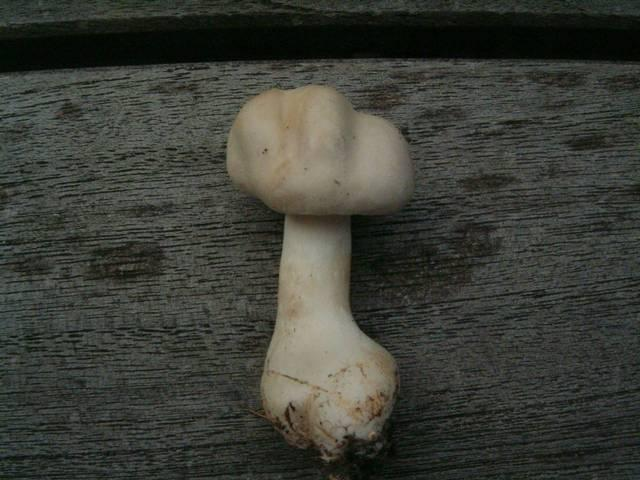poisonous_mushroom: (224, 82, 416, 467)
